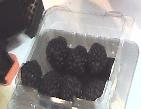berry: (47, 36, 70, 71), (87, 43, 110, 74), (66, 45, 87, 75), (37, 70, 61, 95), (60, 75, 82, 101), (21, 60, 41, 88), (85, 80, 105, 101)
